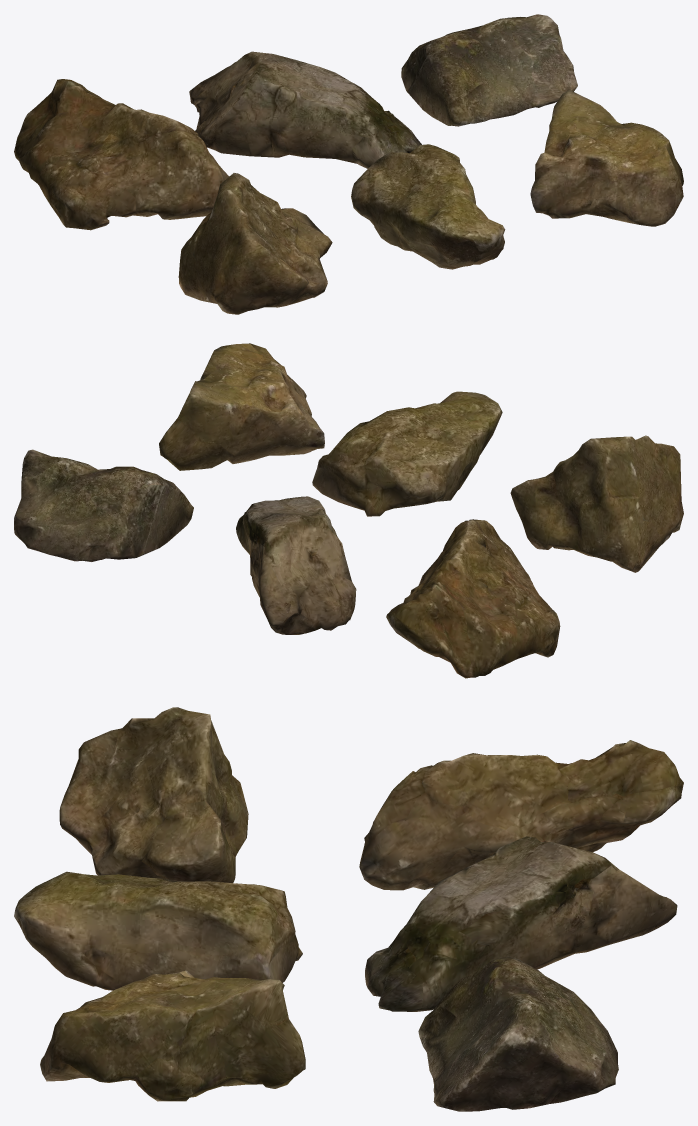
File: rock_moss_1.glb
3 renders of one model, top to bottom at view 1: azimuth 30°, elevation 25°; view 2: azimuth 150°, elevation 25°; view 3: azimuth 270°, elevation 25°, orthographic. The views are drawn at different scales.
Visible parts, largest first — view 1: rock_moss_set_01_rock01; view 2: rock_moss_set_01_rock01; view 3: rock_moss_set_01_rock01.
Boxes of the visible parts, x1,y1,x2,y2 form: rock_moss_set_01_rock01: [14, 14, 683, 314]; rock_moss_set_01_rock01: [14, 343, 683, 678]; rock_moss_set_01_rock01: [14, 707, 683, 1111].
Size of the model in its own units: 8 by 1.76 by 6.94.
1 material, 1 textured.
